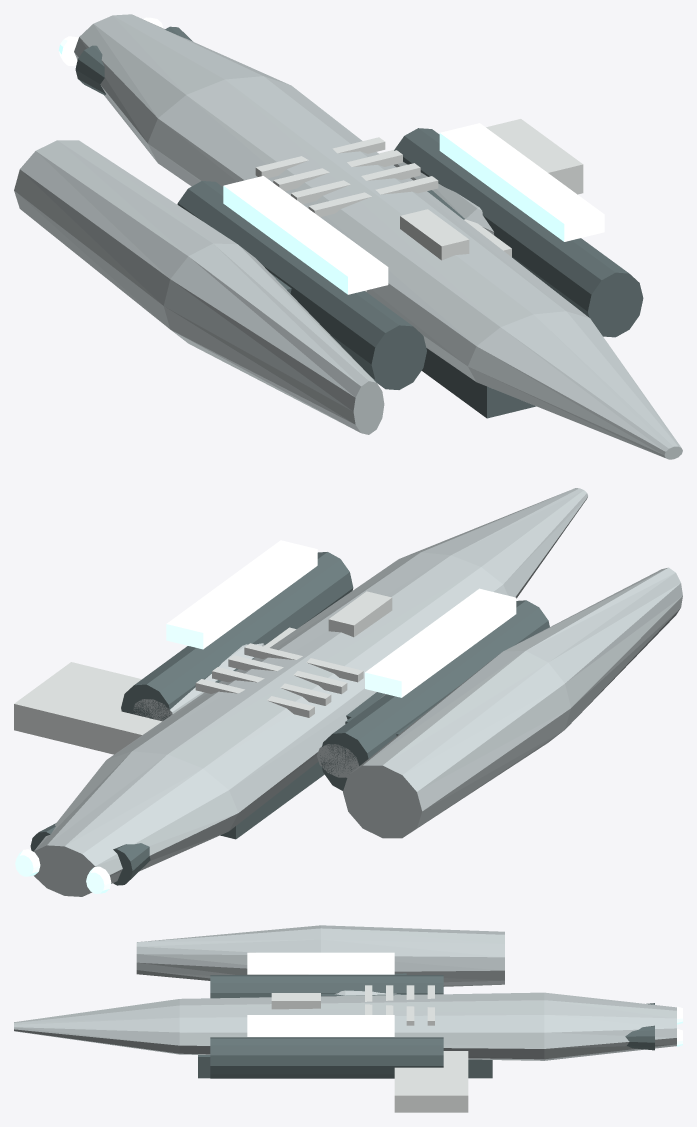
3 views of the same model, one above another, from view 1: azimuth 30°, elevation 25°; view 2: azimuth 150°, elevation 25°; view 3: azimuth 270°, elevation 25° (orthographic). The views are drawn at different scales.
Bounding box in the file's own units: 6.05 × 1.68 × 12.32.
